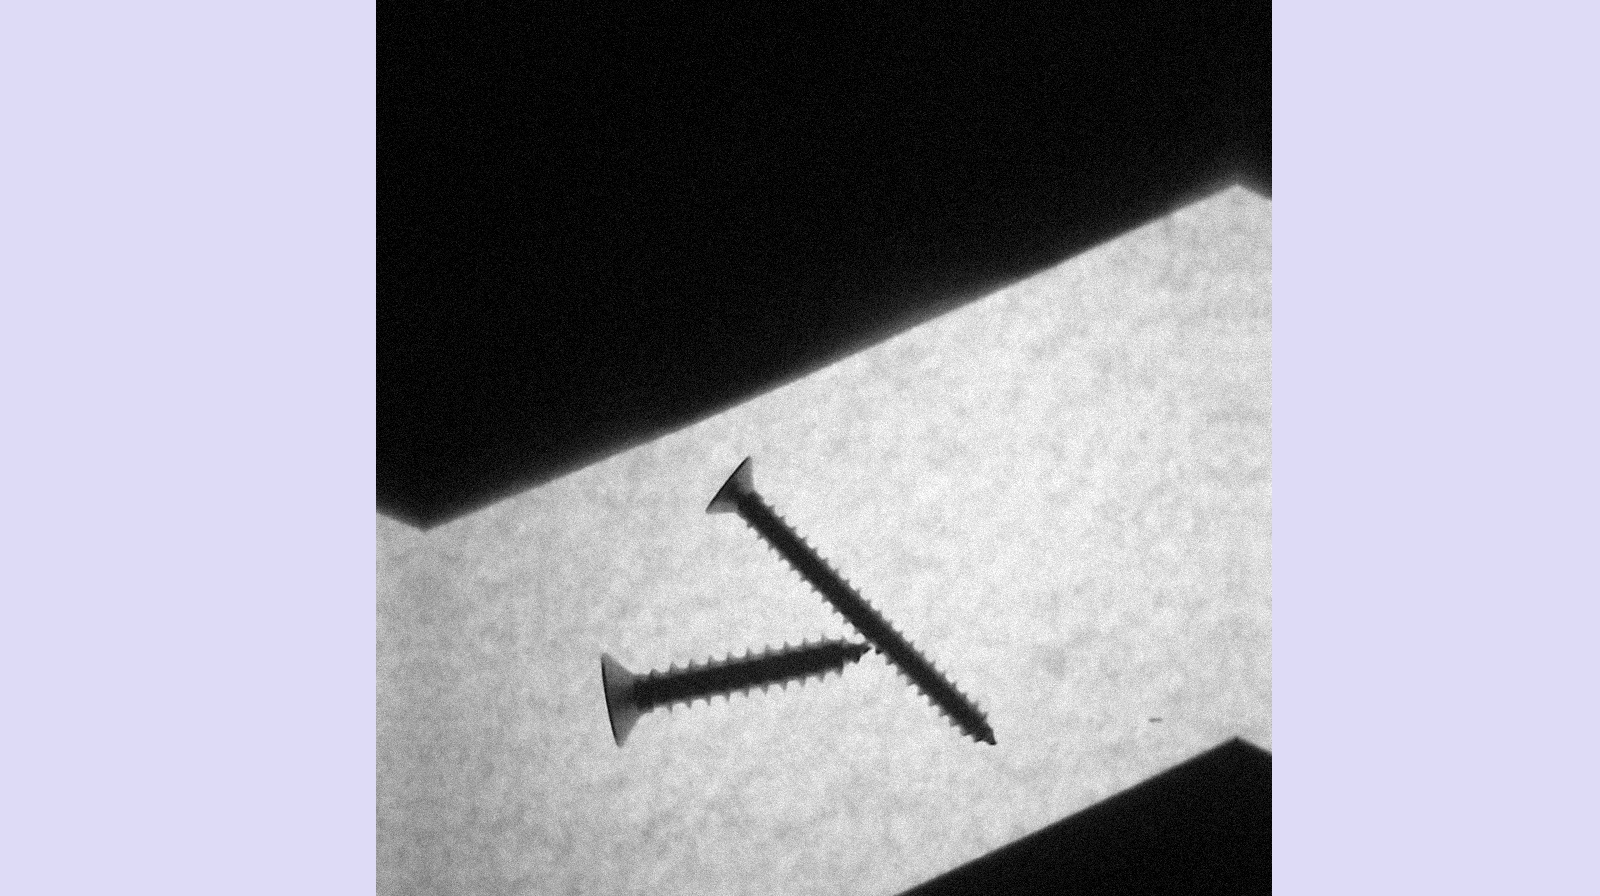S001: (593, 628, 871, 757)
S002: (702, 453, 1002, 745)
